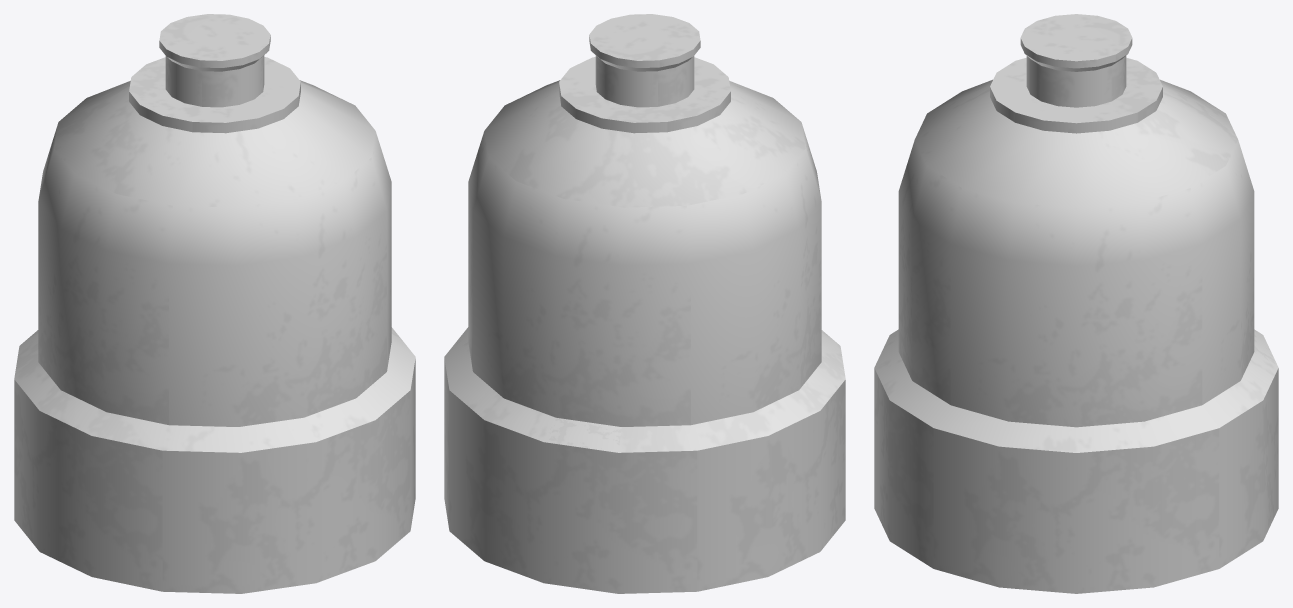
The model's file is Steam Train Body_E_001.fbx.
The picture shows the model from 3 angles, left to right: view 1: azimuth 30°, elevation 25°; view 2: azimuth 150°, elevation 25°; view 3: azimuth 270°, elevation 25°; orthographic projection.
Visible parts, largest first — view 1: Steam_Train_Body_E_001; view 2: Steam_Train_Body_E_001; view 3: Steam_Train_Body_E_001.
Boxes of the visible parts, x1=… form: Steam_Train_Body_E_001: x1=14, y1=14, x2=415, y2=593; Steam_Train_Body_E_001: x1=444, y1=14, x2=845, y2=593; Steam_Train_Body_E_001: x1=874, y1=14, x2=1278, y2=593.
Bounding box in the file's own units: 50.76 × 65.24 × 50.76.
Materials: 2 (2 with a texture image).
